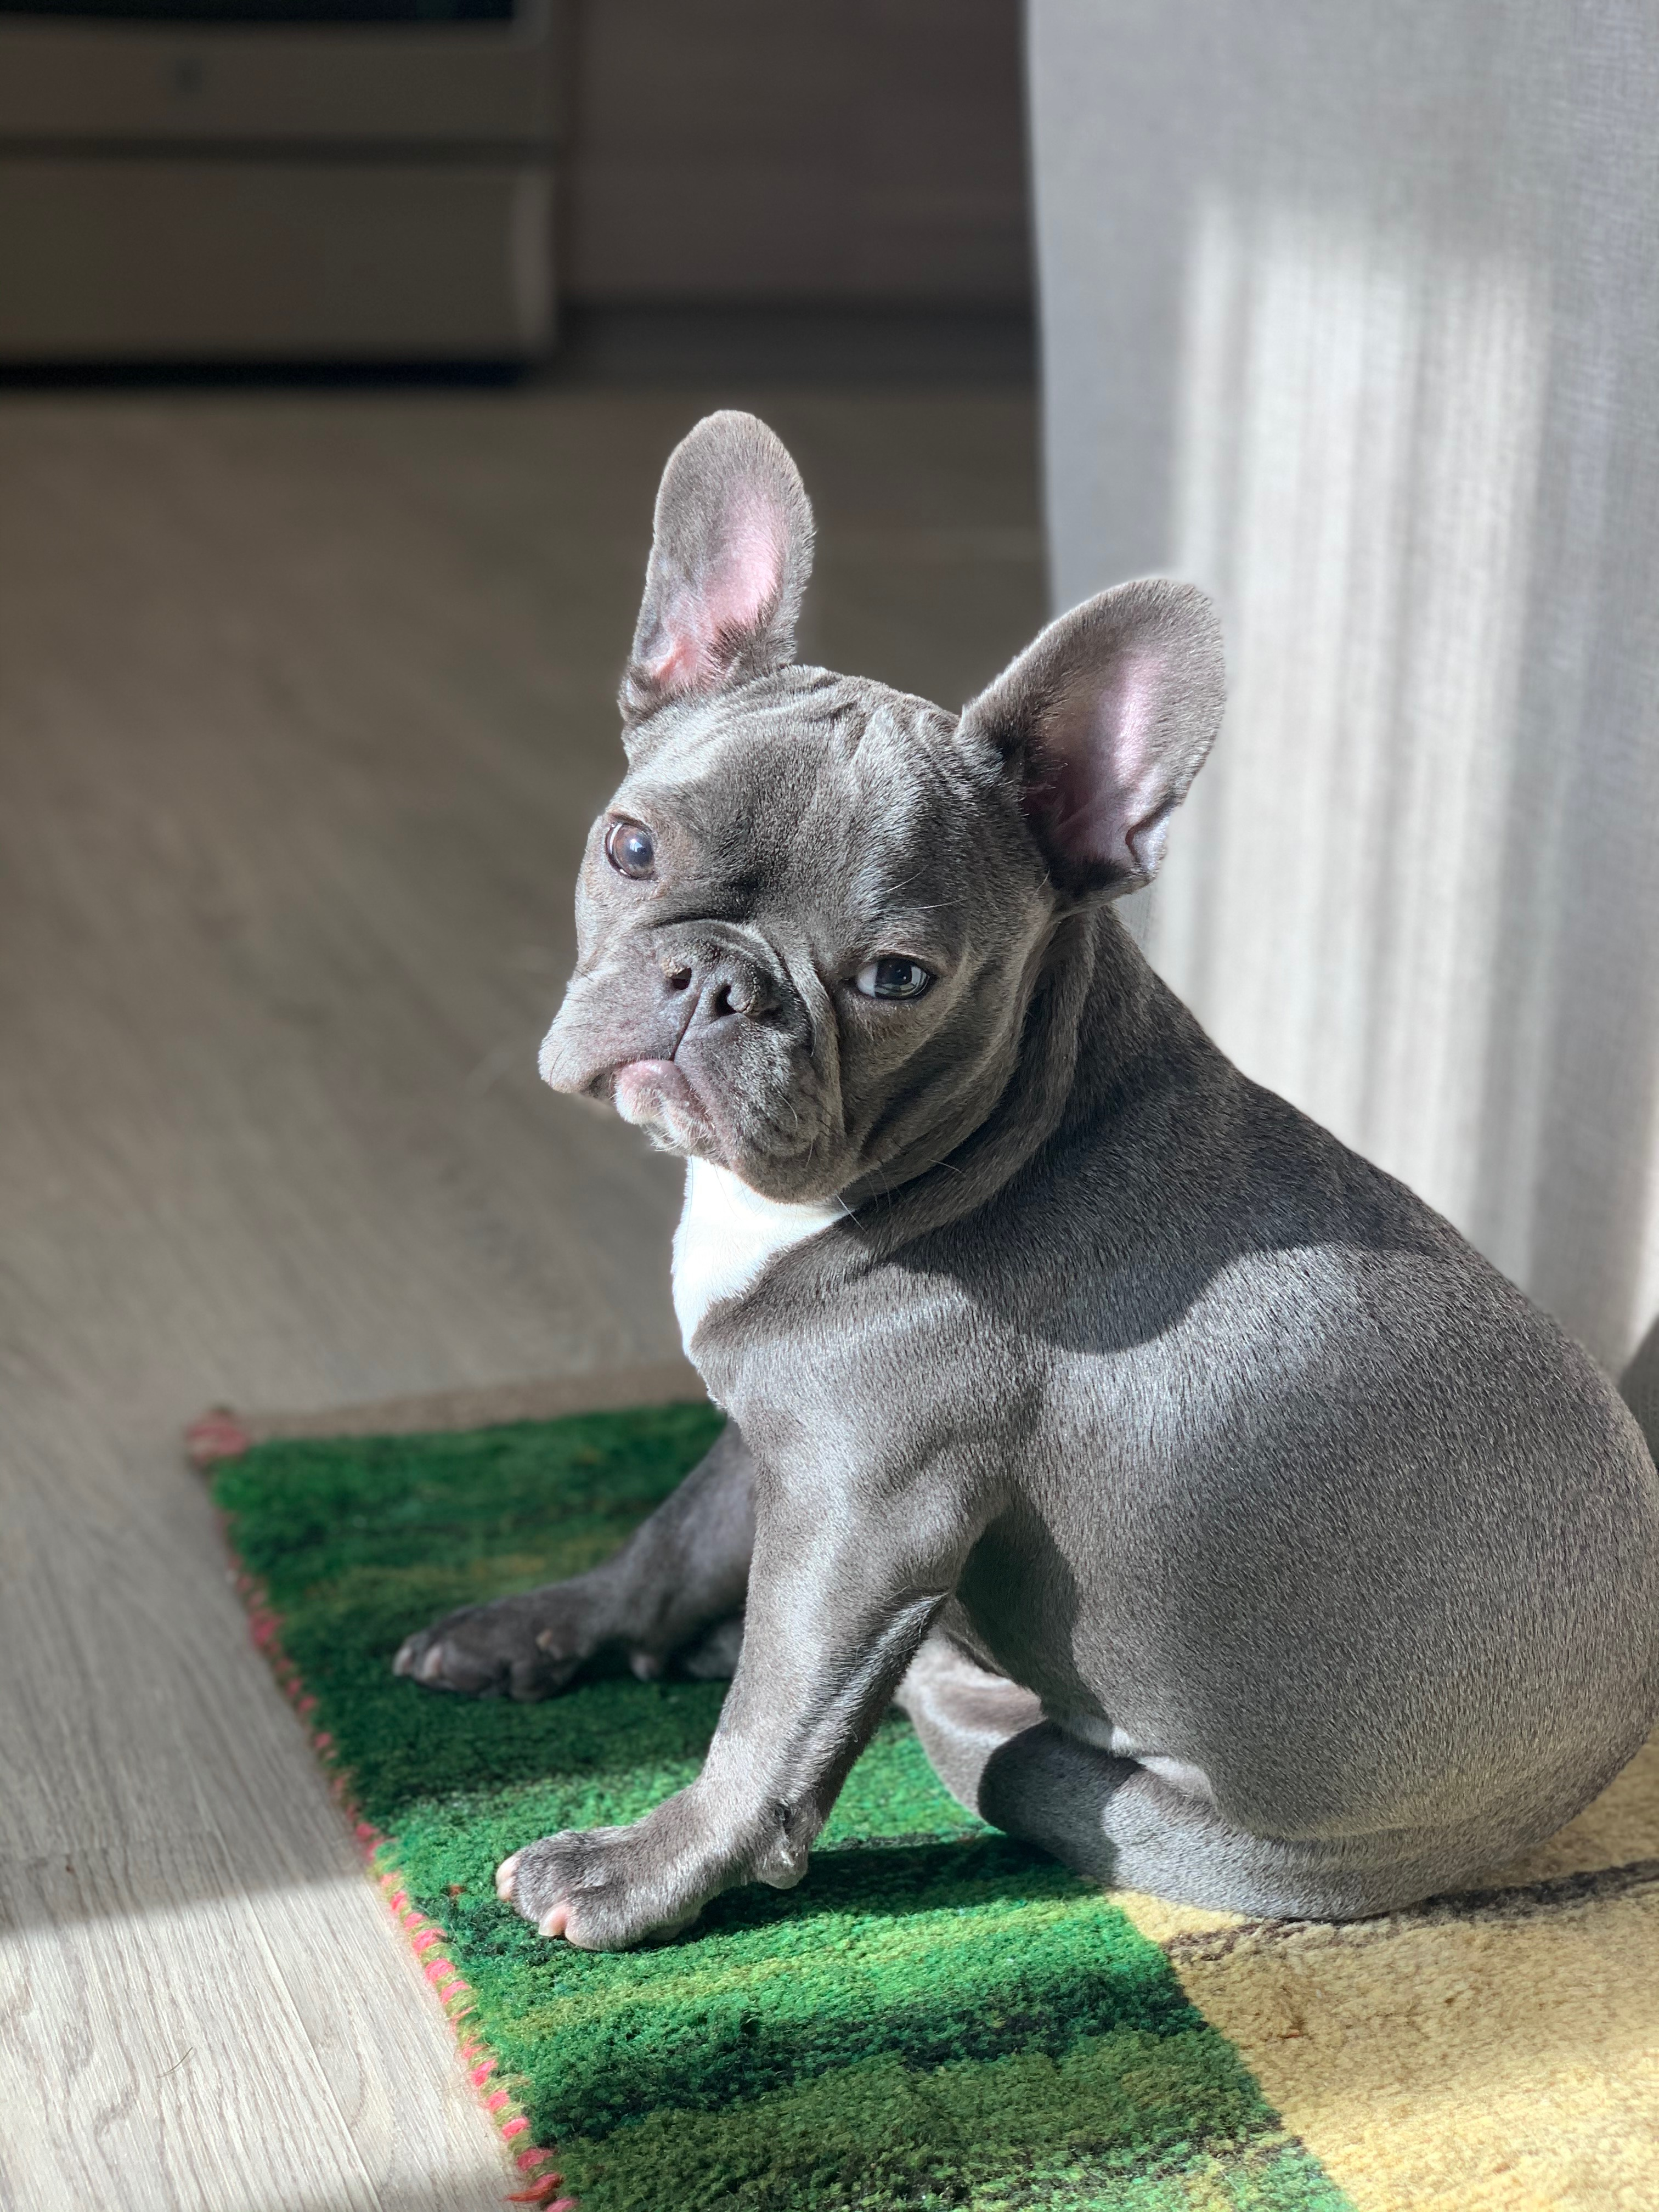lucy: (394, 401, 1659, 1961)
